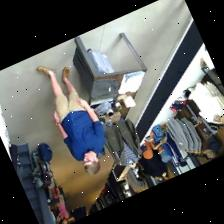person: (37, 66, 105, 173), (57, 191, 69, 223)
